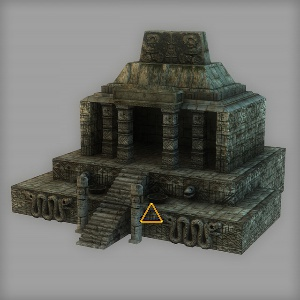triangle: (138, 201, 165, 225)
